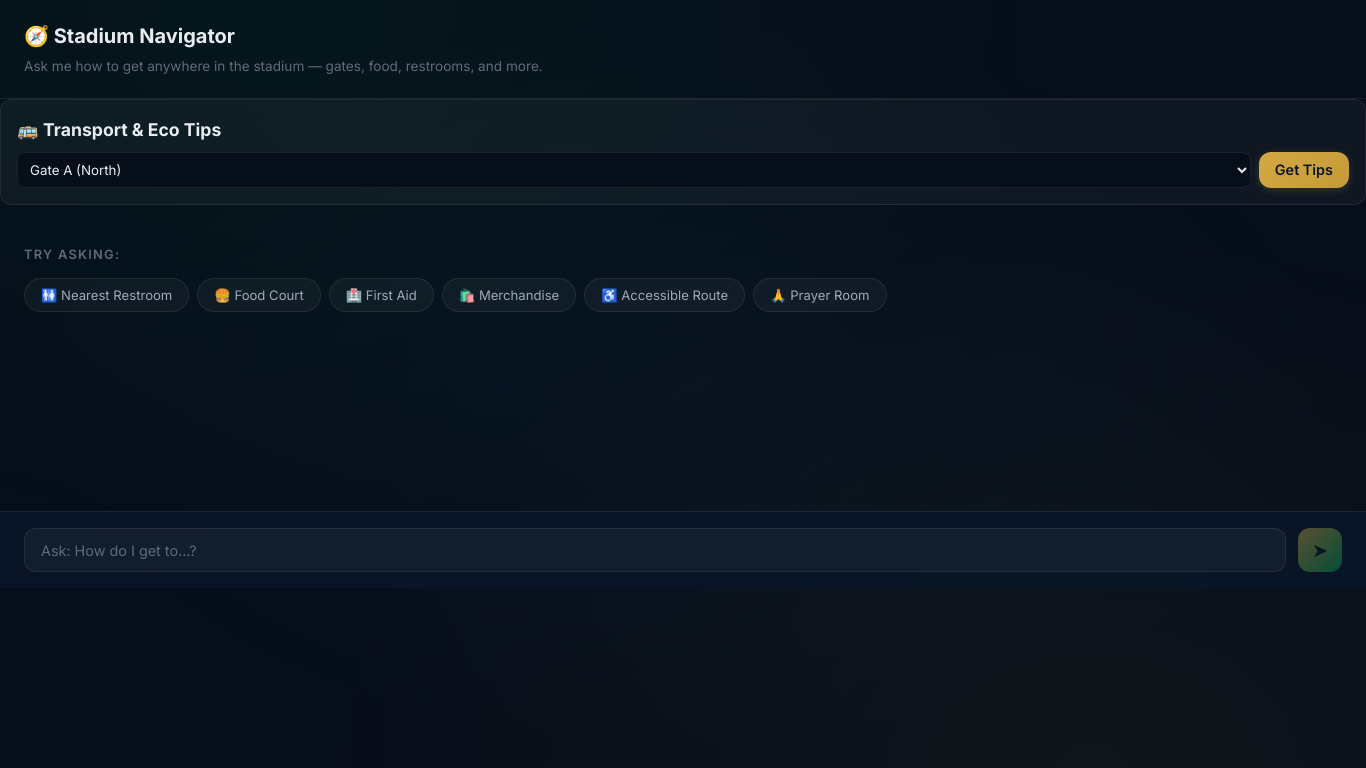
Test: NavigationChat › sends a message and displays AI response
This screenshot has width=1366, height=768.
Step 1. Type "How do I get to the North Concourse from Gate A?" into the field with placeholder "Ask: How do I get to...?" → (655, 550), box [24,528,1286,572]
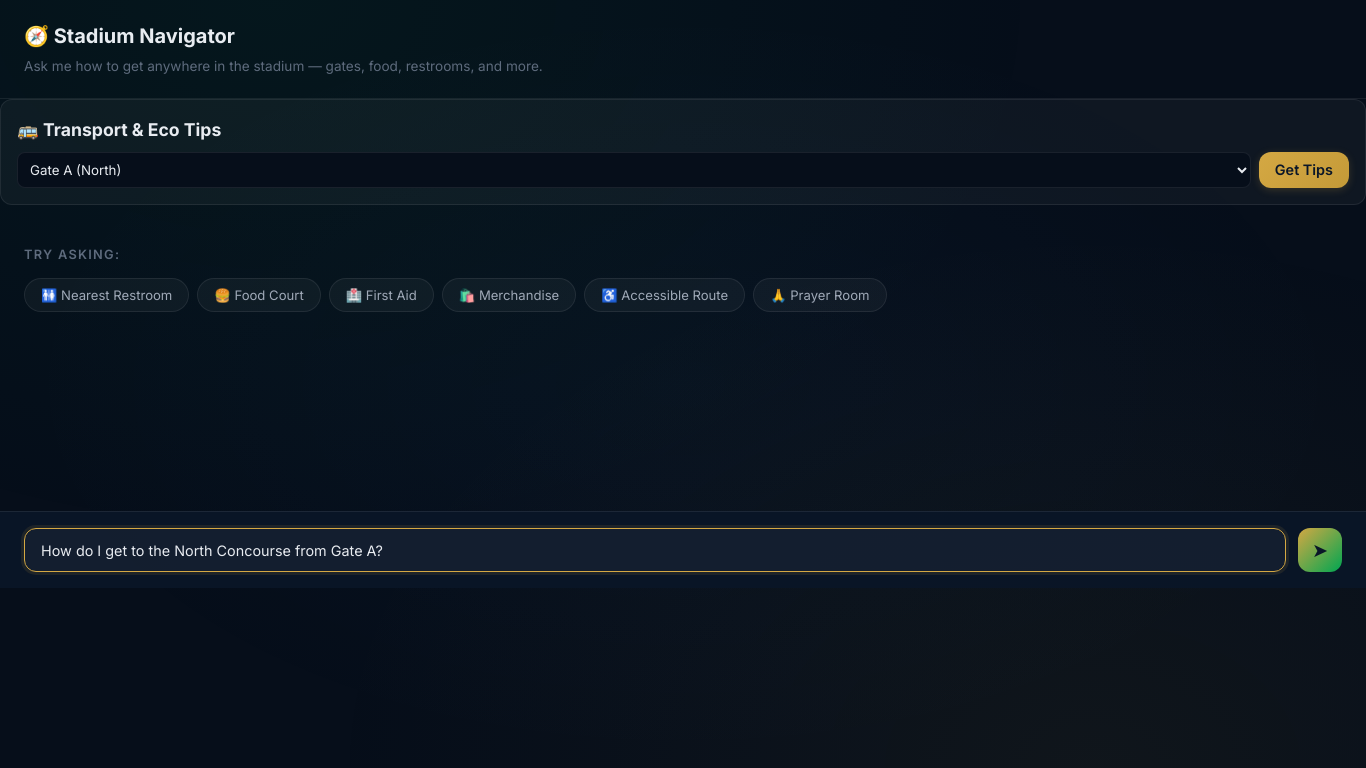
Step 2. Click the button named "Send message" → click(1320, 550), box [1298,528,1342,572]
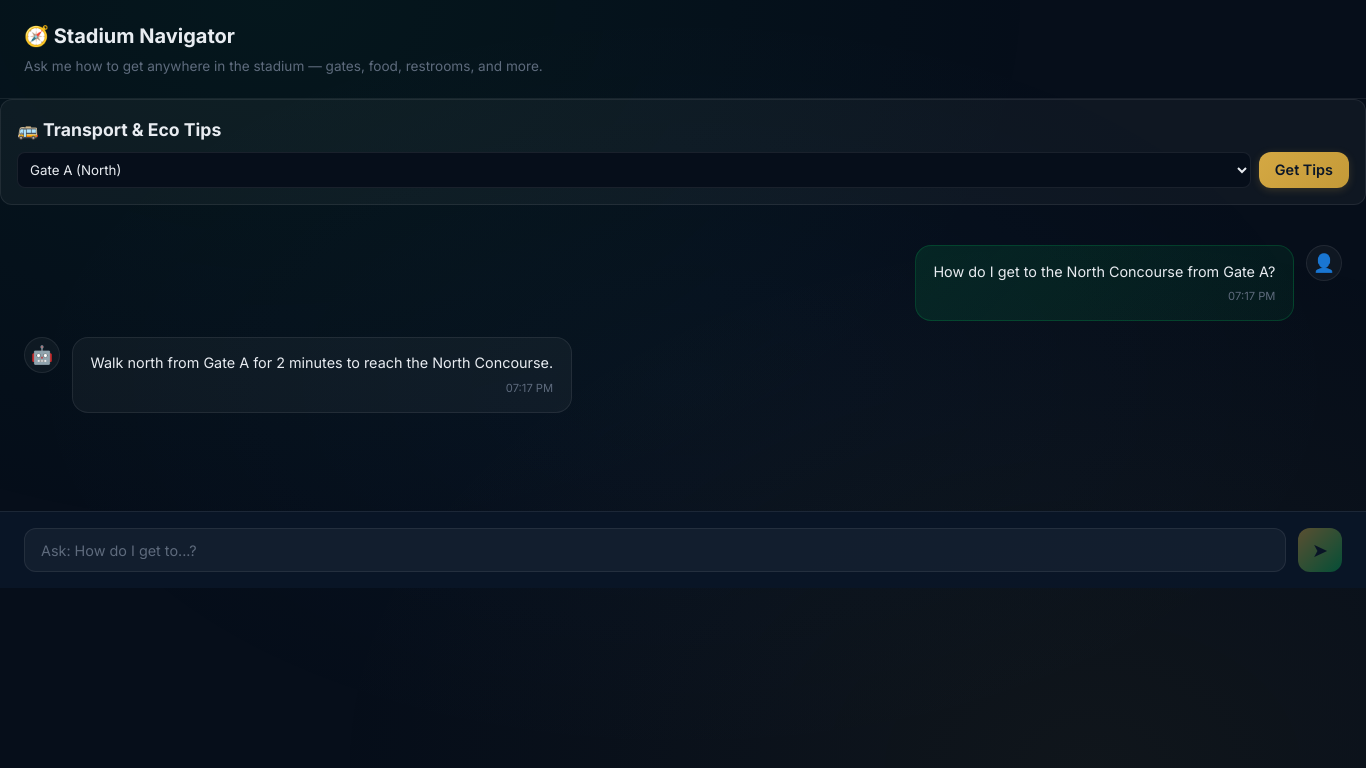
Expected: the text "How do I get to the North Concourse from Gate A?" is shown, [933,260,1275,283]
Expected: the text "Walk north from Gate A for 2 minutes to reach the North Concourse." is shown, [91,351,553,374]
